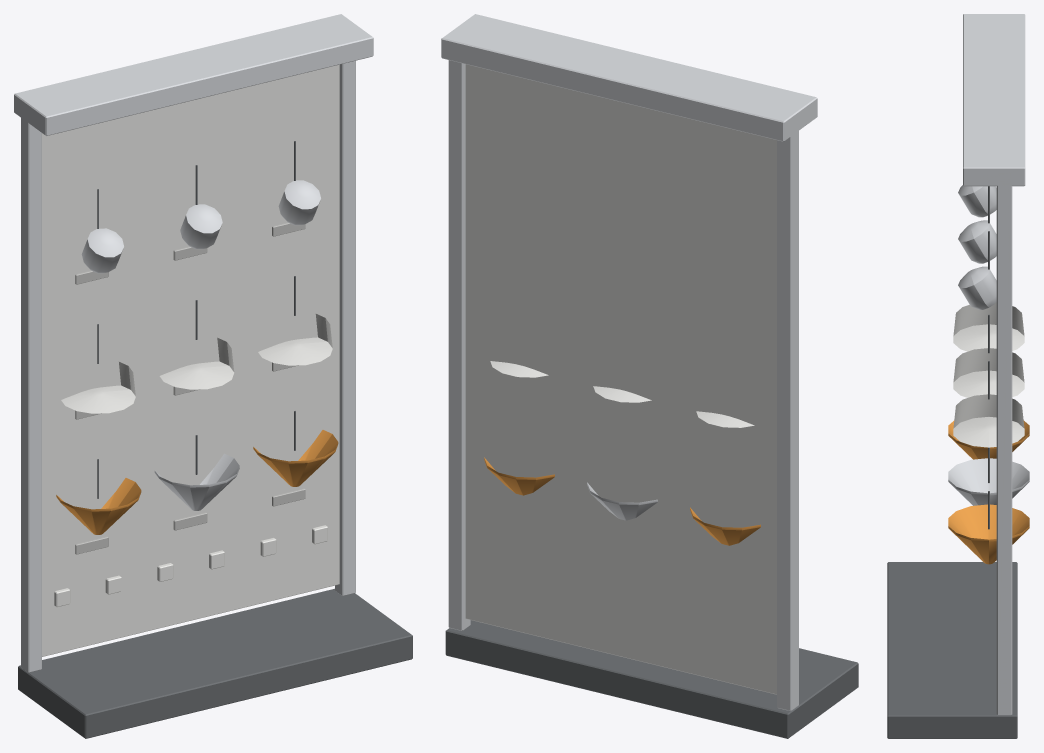
File: lighting-display-board.glb
3 views of the same model, side by side, from view 1: azimuth 30°, elevation 25°; view 2: azimuth 150°, elevation 25°; view 3: azimuth 270°, elevation 25° (orthographic). The views are drawn at different scales.
Parts seen in each view (by area): view 1: lighting-display-board; view 2: lighting-display-board; view 3: lighting-display-board.
Part boxes in pixels (x1=…): lighting-display-board: x1=14, y1=14, x2=412, y2=738; lighting-display-board: x1=441, y1=14, x2=858, y2=738; lighting-display-board: x1=887, y1=14, x2=1029, y2=738.
Size of the model in its own units: 1.4 by 2.42 by 0.5459.
